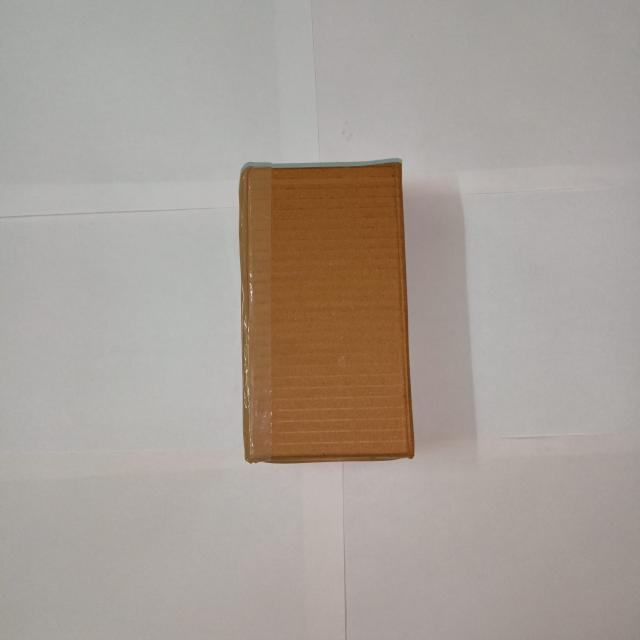box: (238, 160, 417, 467)
